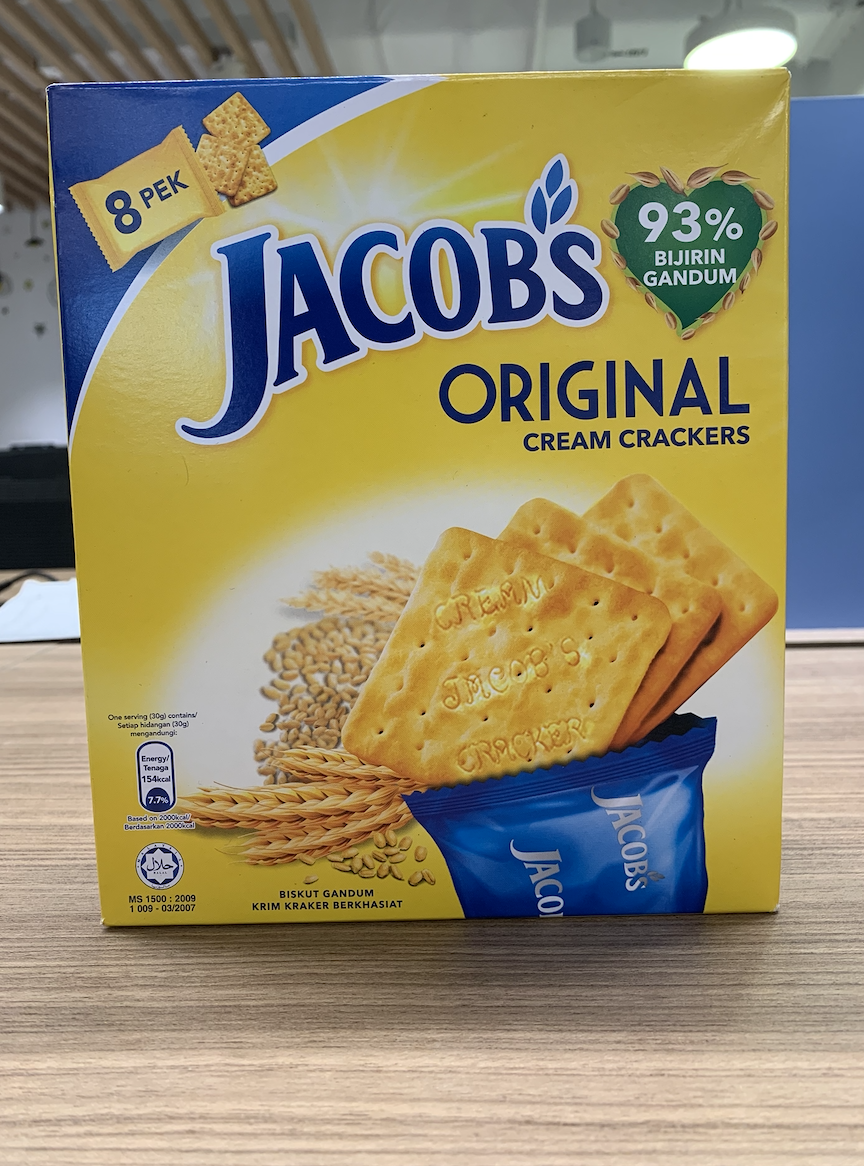crackers_200g-299g: (96, 98, 767, 915)
